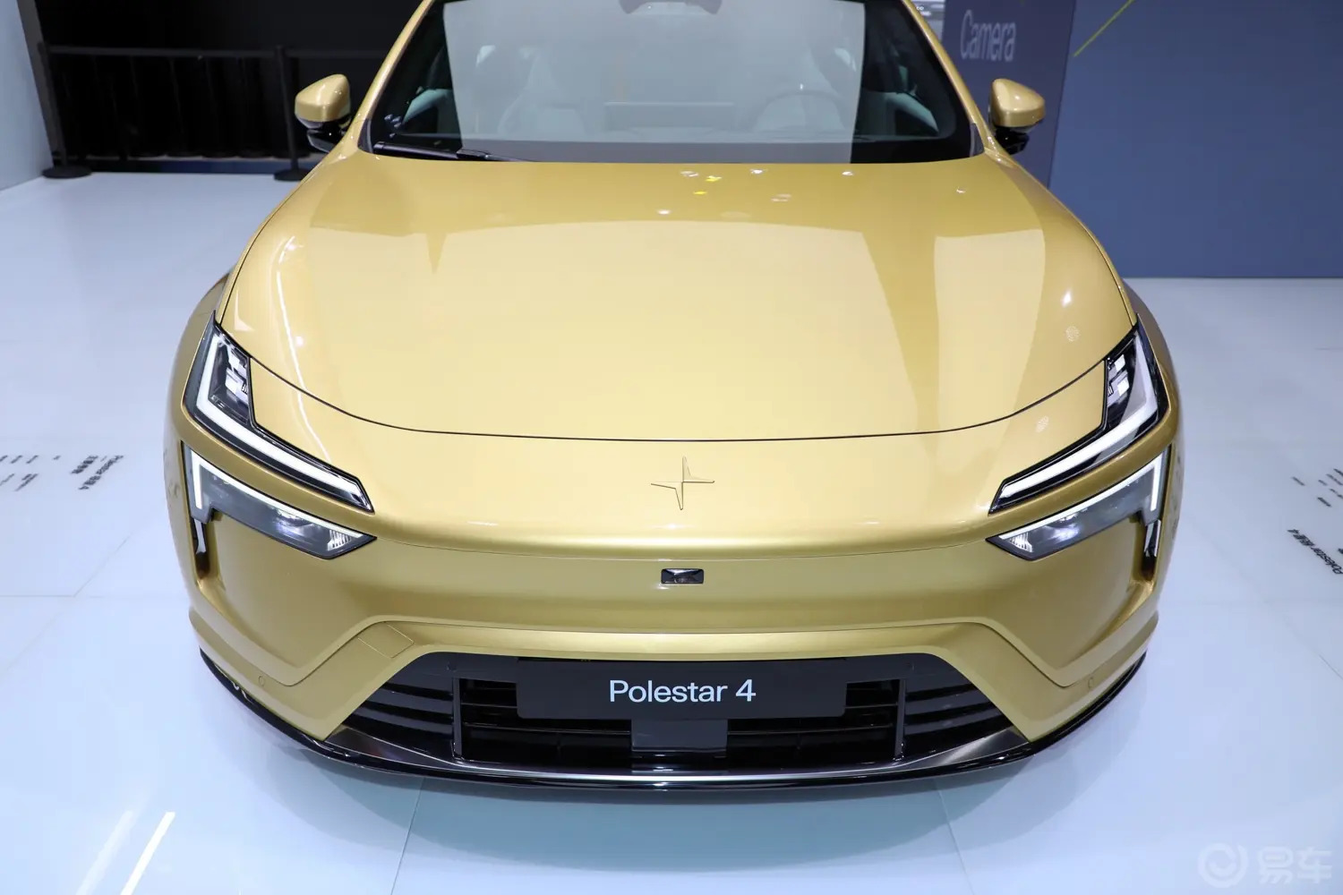Polestar: (652, 456, 714, 509)
